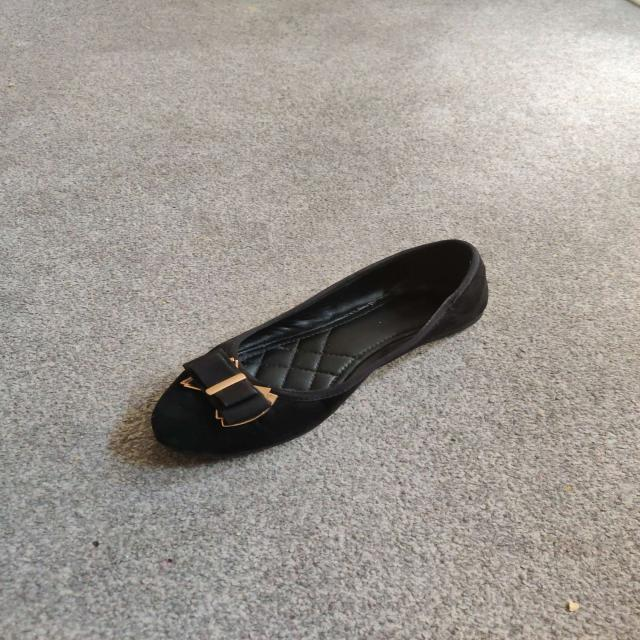shoes: (148, 236, 493, 462)
